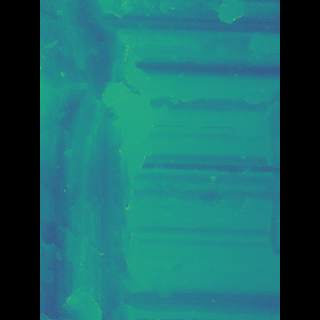Loch: (68, 0, 159, 320), (130, 49, 249, 105), (221, 74, 250, 282), (225, 29, 250, 63), (203, 0, 222, 25)
